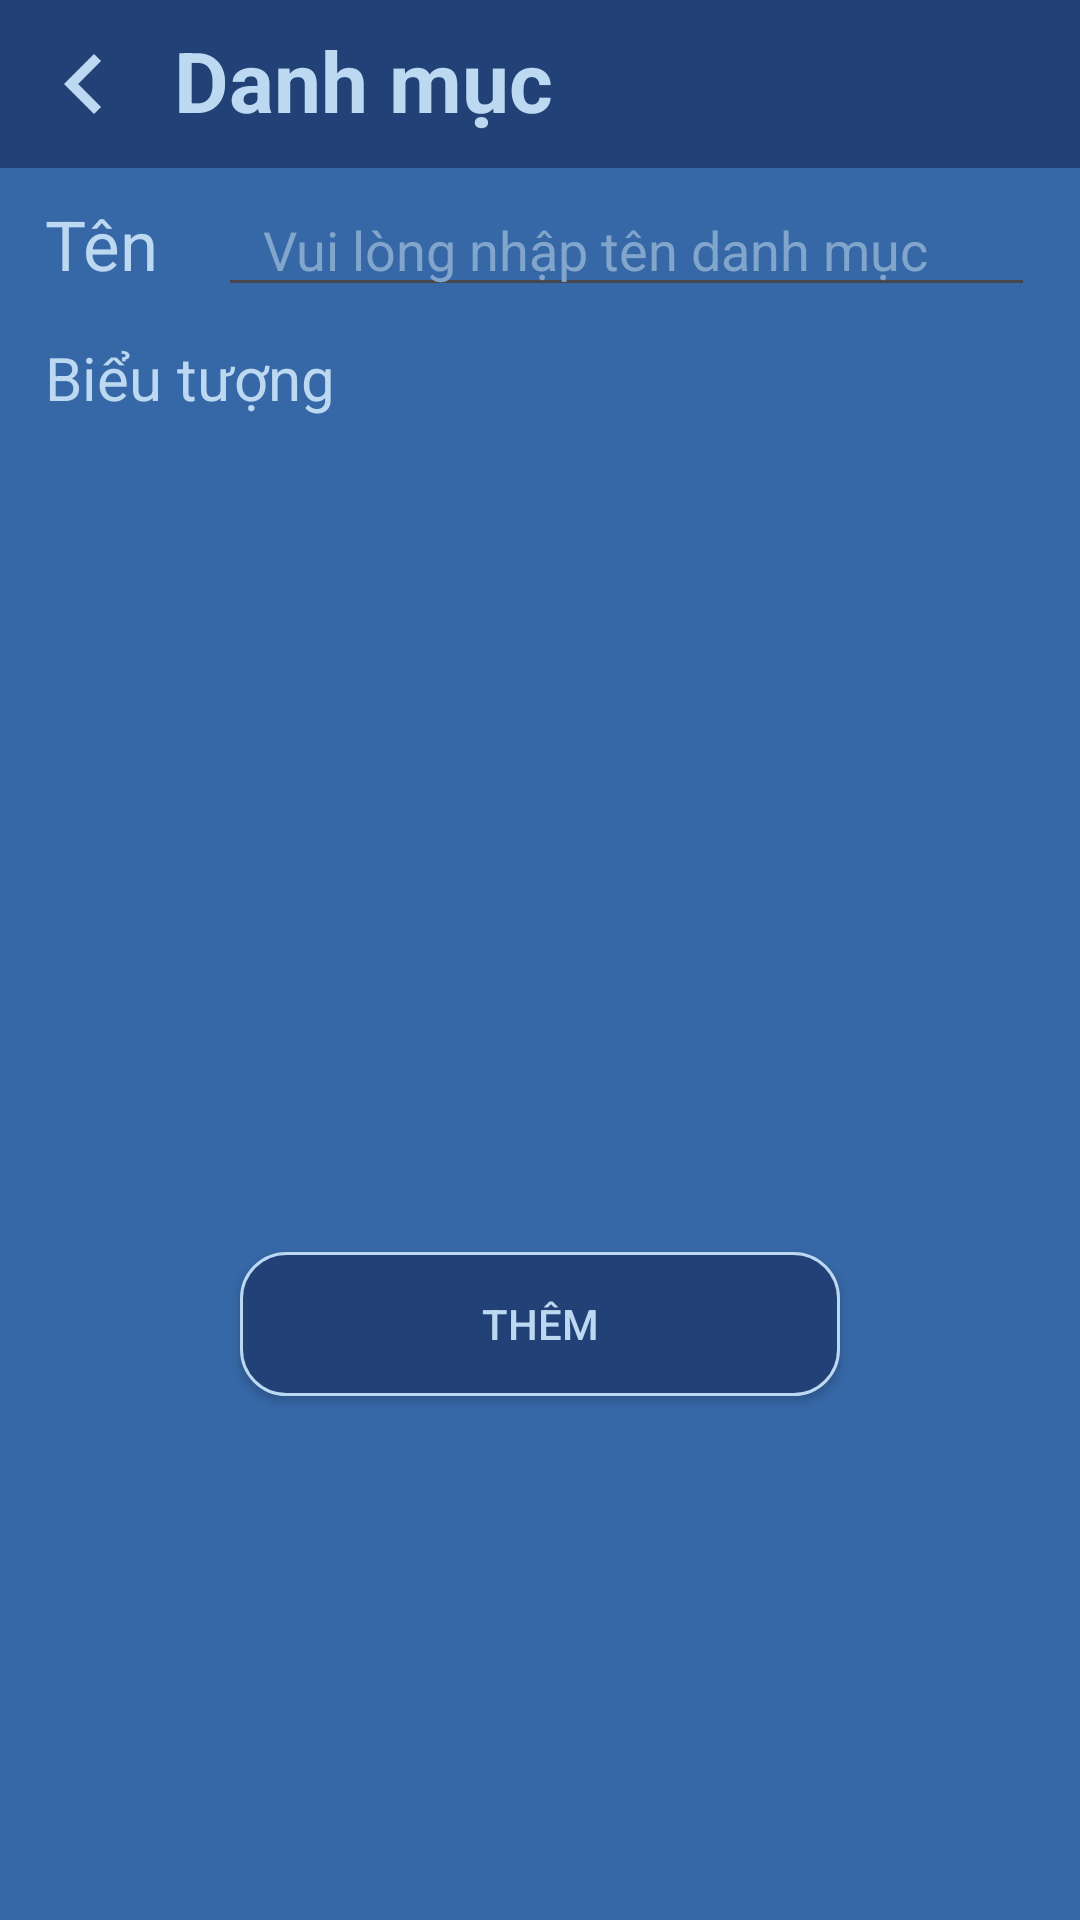

Point at icon controls on the screen. Image size 1080px x 1920px, points as [x,y].
before: [82,84]
